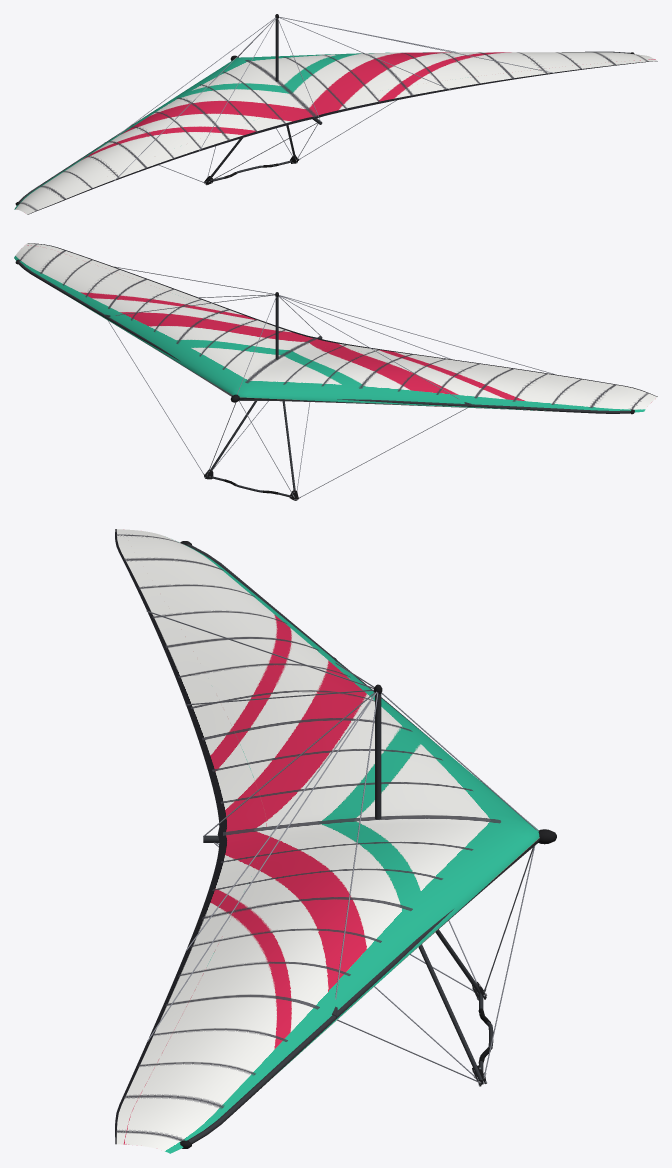
Rendered from glider_bautek_kite.glb.
3 views of the same model, one above another, from view 1: azimuth 30°, elevation 25°; view 2: azimuth 150°, elevation 25°; view 3: azimuth 270°, elevation 25° (orthographic). The views are drawn at different scales.
Visible parts, largest first — view 1: Sail, Frame, ControlFrame; view 2: Sail, Frame, ControlFrame; view 3: Sail, Frame, ControlFrame.
Boxes of the visible parts, x1,y1,x2,y2 form: Sail: [14, 52, 657, 214]; Frame: [15, 14, 634, 205]; ControlFrame: [159, 100, 396, 185]; Sail: [14, 243, 657, 412]; Frame: [15, 259, 634, 414]; ControlFrame: [107, 320, 467, 500]; Sail: [115, 529, 539, 1153]; Frame: [146, 541, 556, 1148]; ControlFrame: [213, 842, 534, 1086].
Size of the model in its own units: 10.15 by 2.76 by 3.08.
8 materials, 1 textured.
